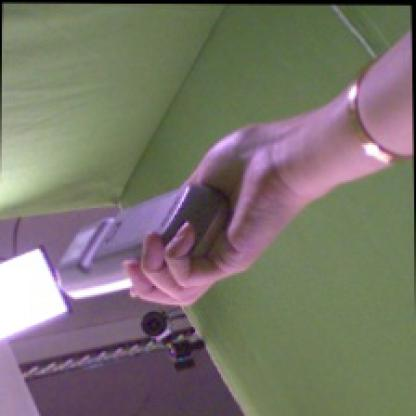Hand: (124, 122, 286, 305)
